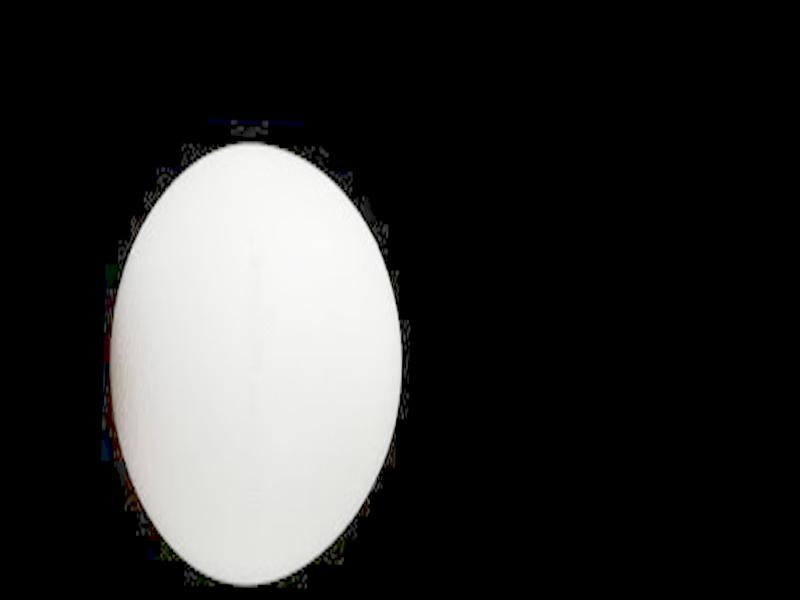Eggs: (104, 139, 404, 586)
